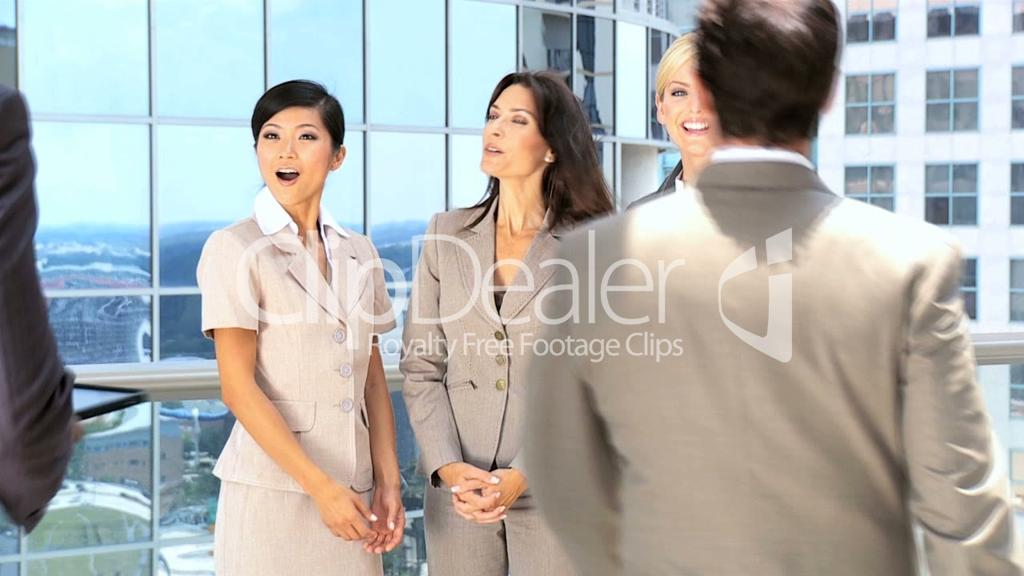face: (660, 58, 742, 148), (256, 106, 330, 204), (482, 88, 554, 176)
